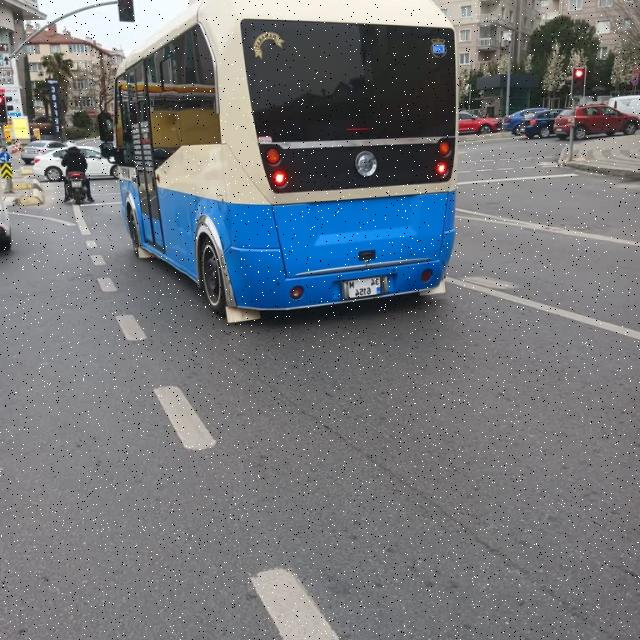bus: (114, 0, 456, 321)
